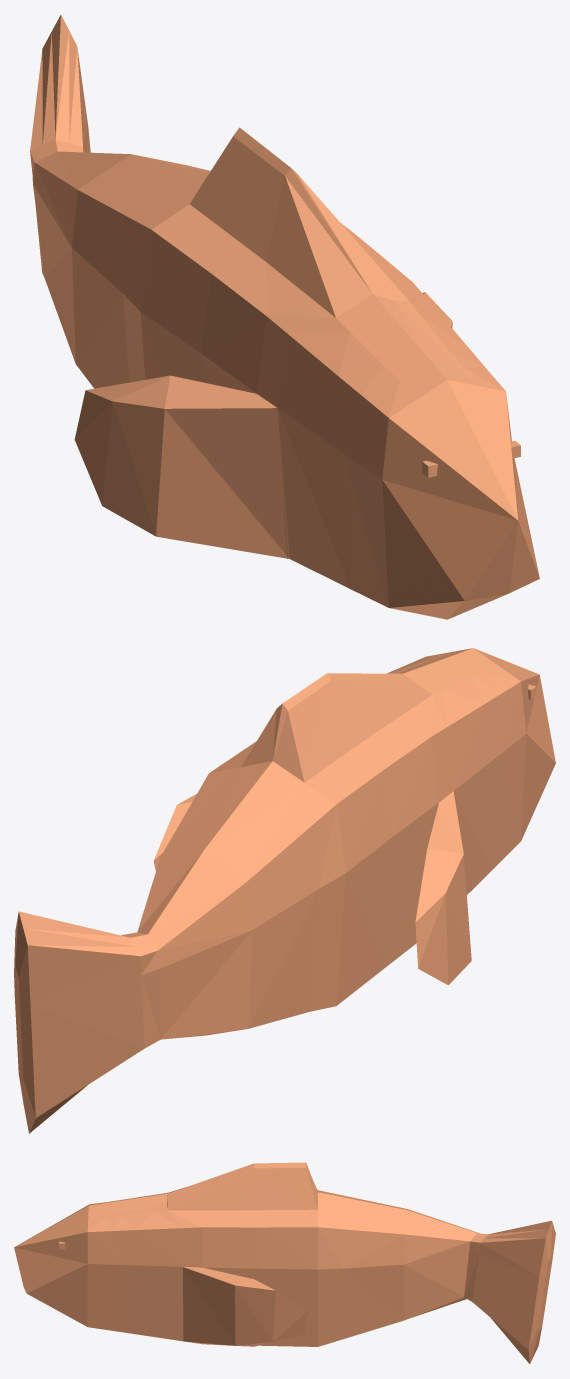
File: quaternius_Fish.glb
3 renders of one model, top to bottom at view 1: azimuth 30°, elevation 25°; view 2: azimuth 150°, elevation 25°; view 3: azimuth 270°, elevation 25°, orthographic. The views are drawn at different scales.
Size of the model in its own units: 0.0941 by 0.1021 by 0.2737.
